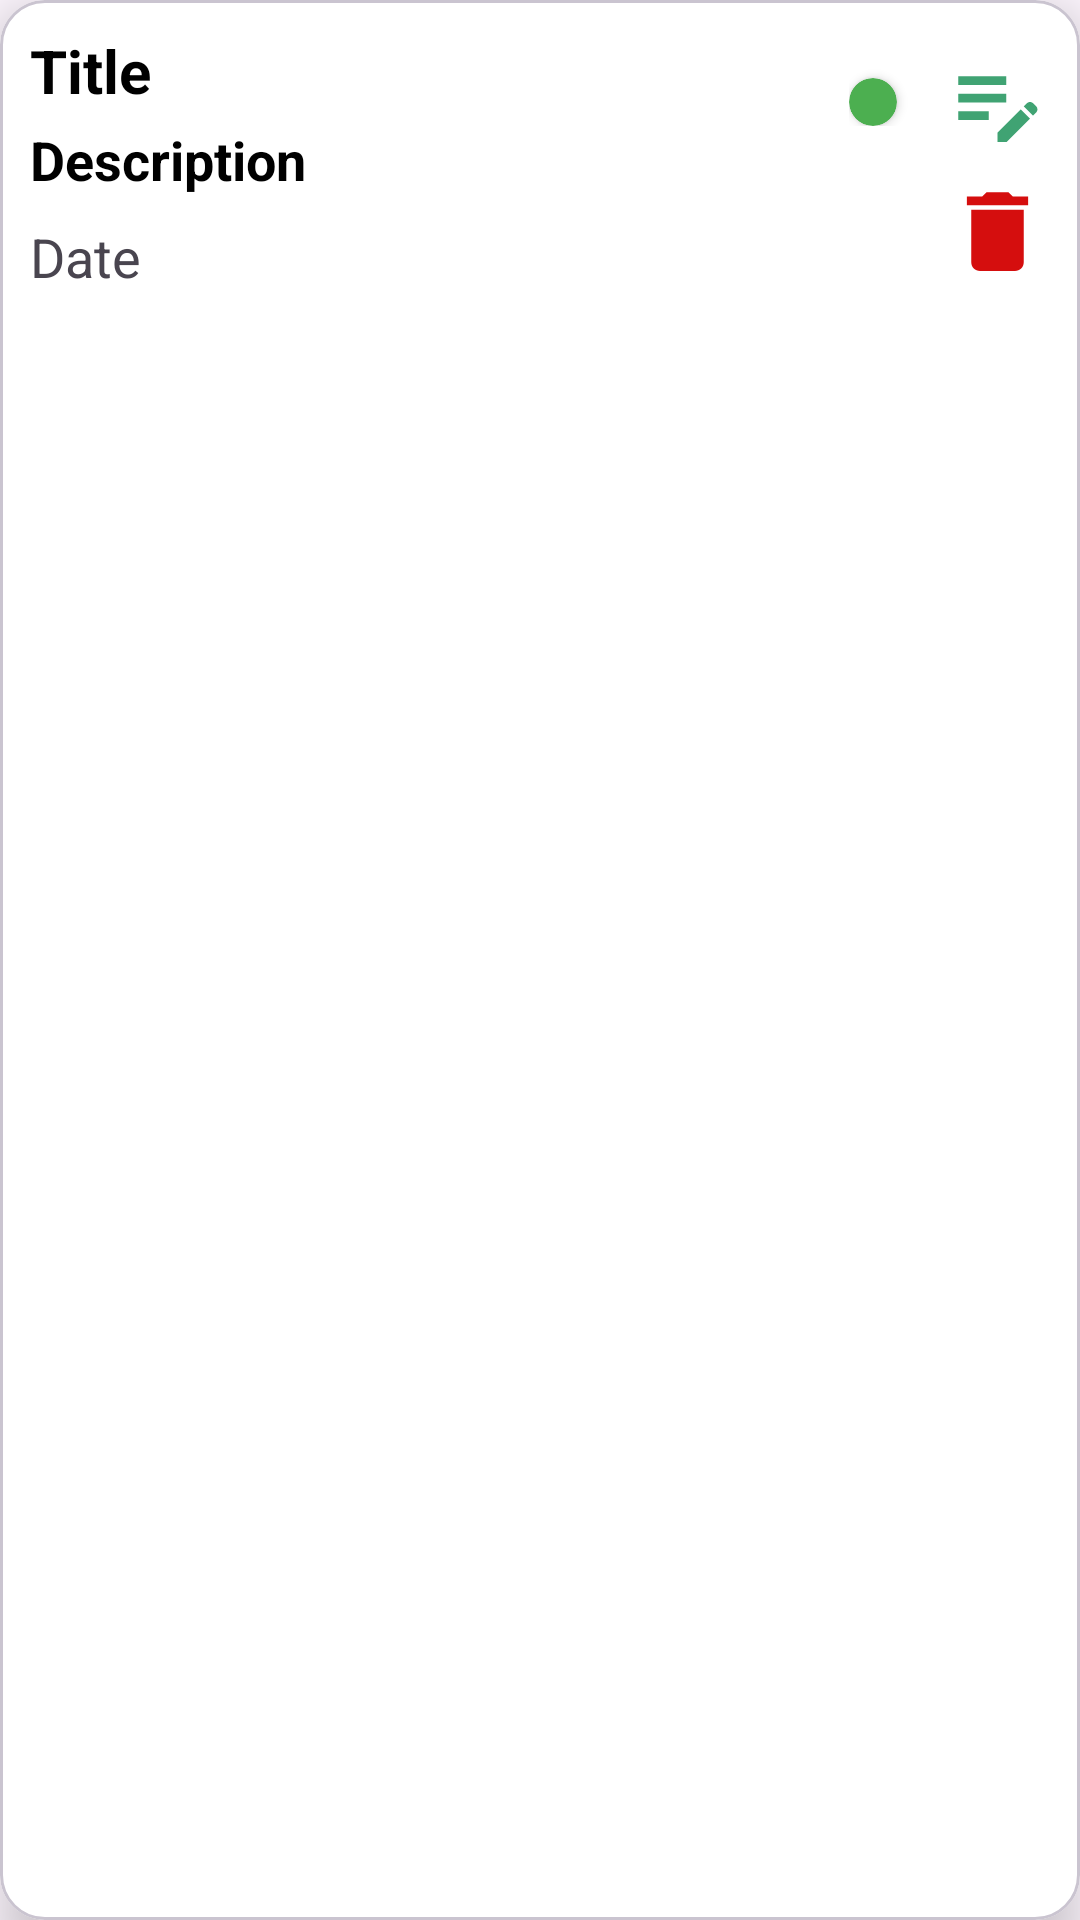

Locate icon controls on the screen. Image size 1080px x 1920px, boxes as (left=x1, top=y1, right=x2, bottom=y2).
delete: (left=966, top=192, right=1029, bottom=271)
edit: (left=958, top=76, right=1038, bottom=142)
